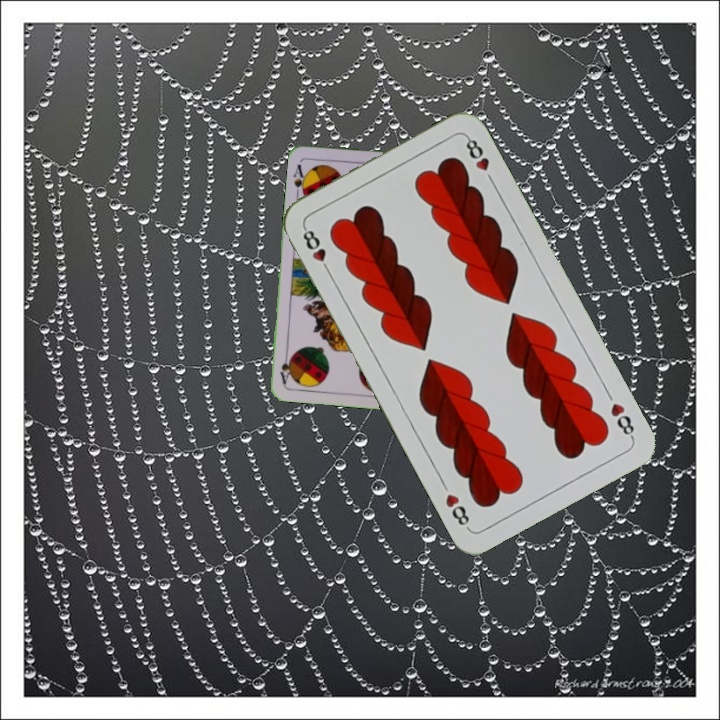H8: (298, 222, 334, 277), (606, 399, 637, 442)
SA: (289, 160, 309, 198)
